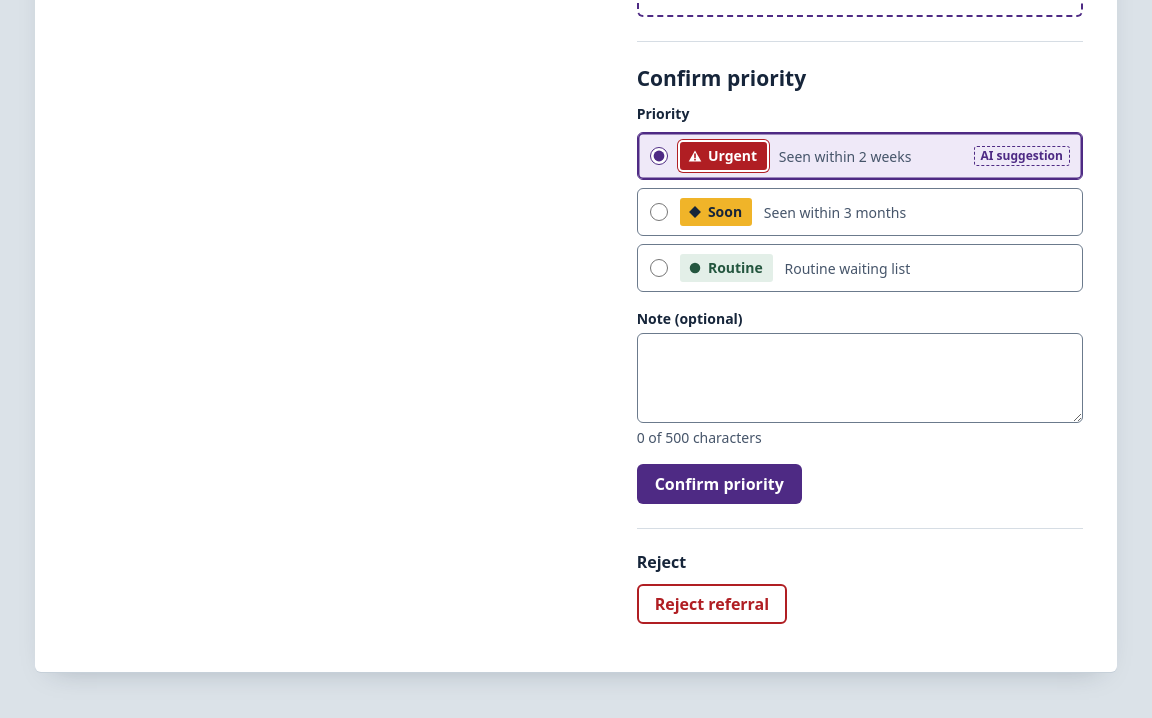
referral detail › shows the "changed" message when reject gets a 409
(page scrolled)
Click the button "Reject referral" at (712, 604), box [637, 584, 787, 624]
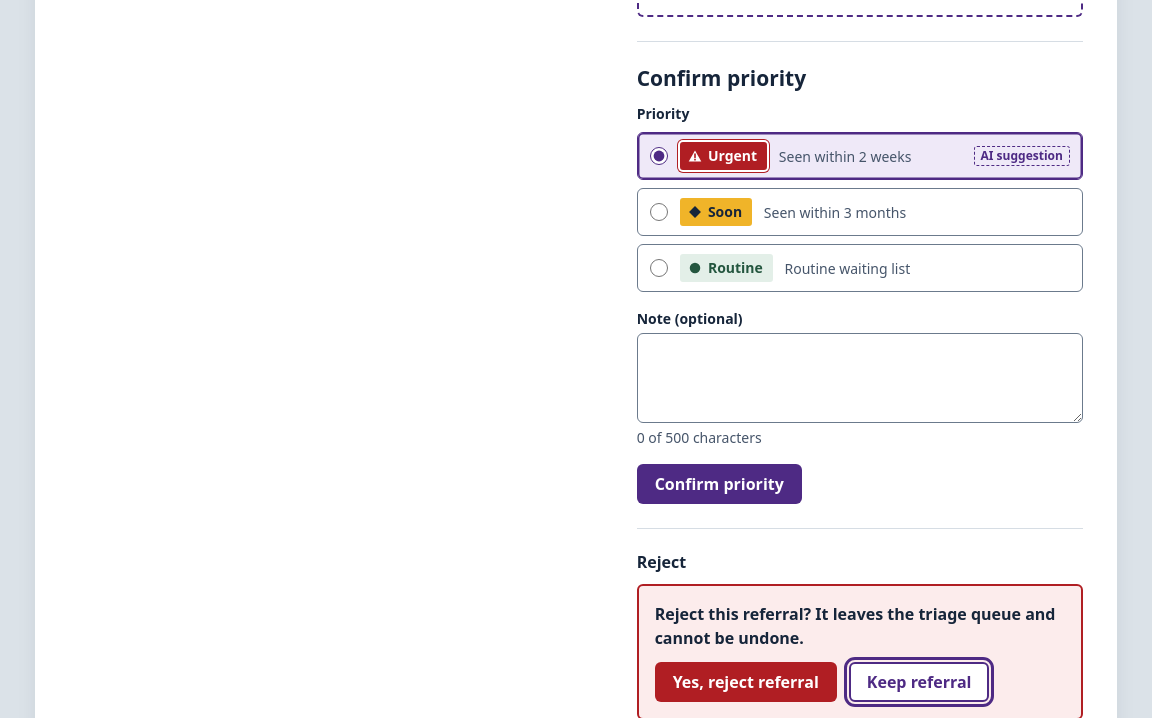
Click the button "Yes, reject referral" at (746, 682), box [655, 662, 837, 702]
(page scrolled)
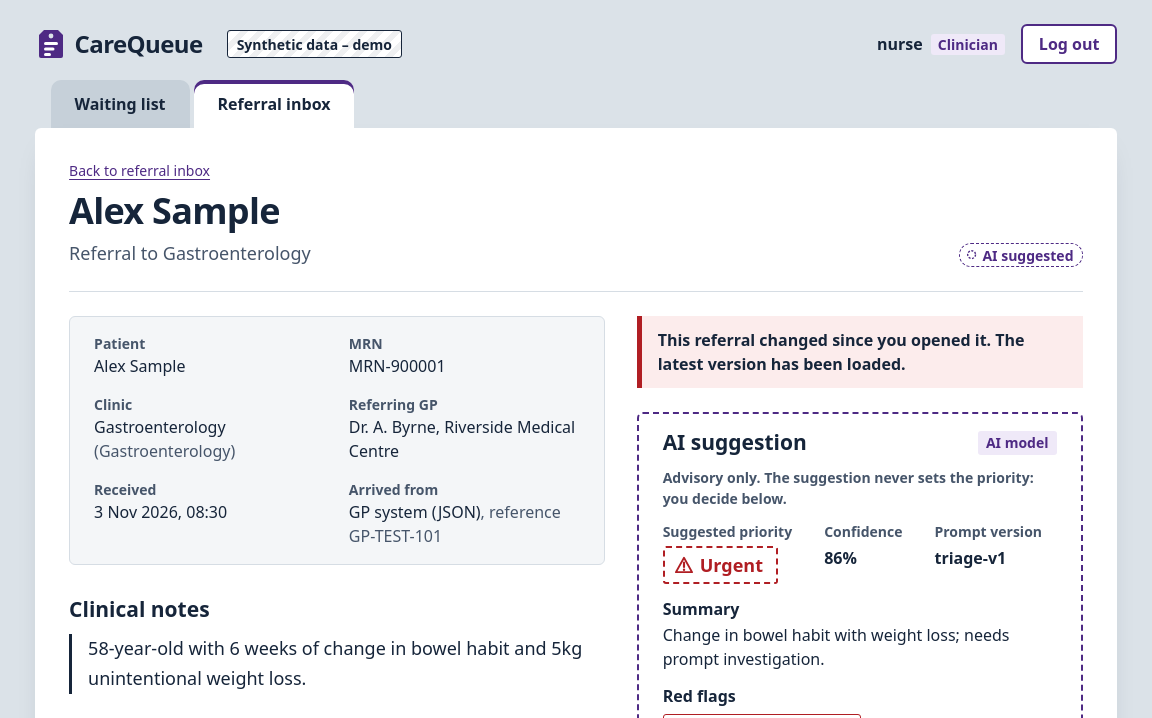
Check: the text "This referral changed since you opened it. The latest version has been loaded." is shown, box [637, 316, 1083, 388]
